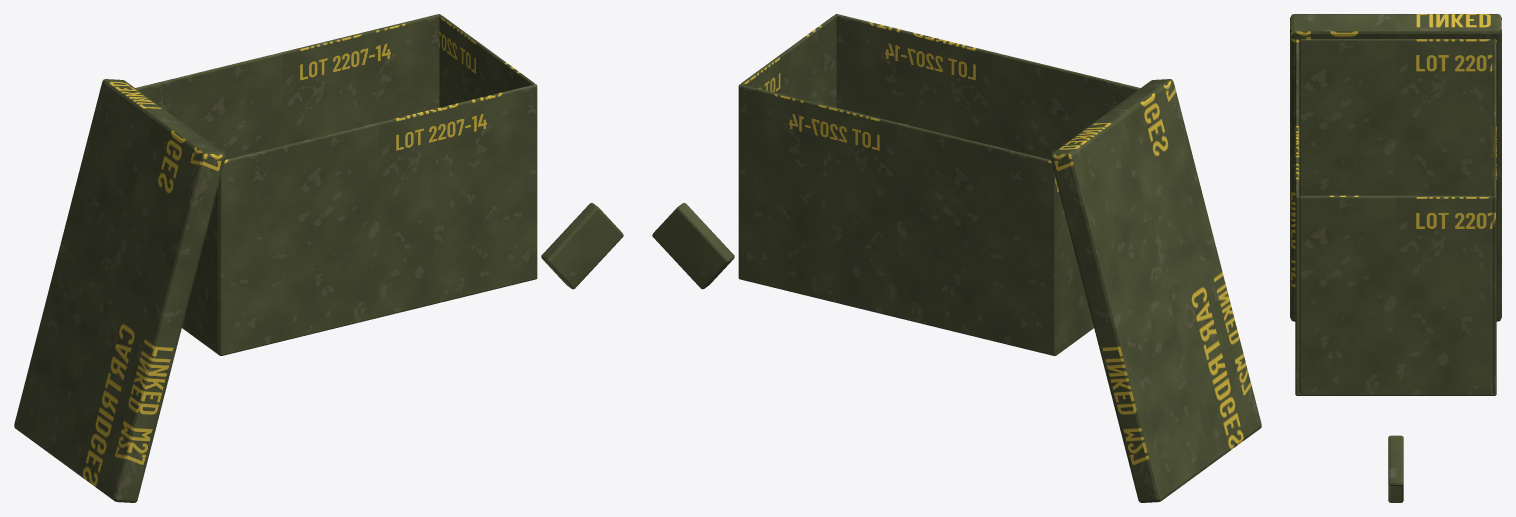
Rendered from lootbox_ammocan_open.glb.
3 renders of one model, left to right at view 1: azimuth 30°, elevation 25°; view 2: azimuth 150°, elevation 25°; view 3: azimuth 270°, elevation 25°, orthographic. The views are drawn at different scales.
Visible parts, largest first — view 1: can_back, lid, can_front, can_right, latch, can_left; view 2: can_front, lid, can_back, can_right, latch, can_left; view 3: can_right, can_left, lid, can_back, can_front, latch, can_floor.
Boxes of the visible parts, x1,y1,x2,y2 form: can_back: [219, 84, 537, 355]; lid: [14, 79, 225, 502]; can_front: [135, 14, 440, 159]; can_right: [439, 15, 534, 107]; latch: [541, 203, 623, 289]; can_left: [182, 183, 219, 352]; can_front: [738, 84, 1056, 355]; lid: [1050, 79, 1261, 502]; can_back: [835, 14, 1140, 159]; can_right: [741, 15, 836, 107]; latch: [652, 203, 734, 289]; can_left: [1056, 183, 1093, 353]; can_right: [1299, 195, 1492, 395]; can_left: [1299, 39, 1492, 196]; lid: [1290, 14, 1501, 321]; can_back: [1295, 38, 1299, 395]; can_front: [1492, 38, 1496, 394]; latch: [1388, 435, 1403, 502]; can_floor: [1295, 393, 1496, 395].
Bounding box in the file's own units: 0.5082 × 0.2909 × 0.163.
2 materials, 2 textured.
